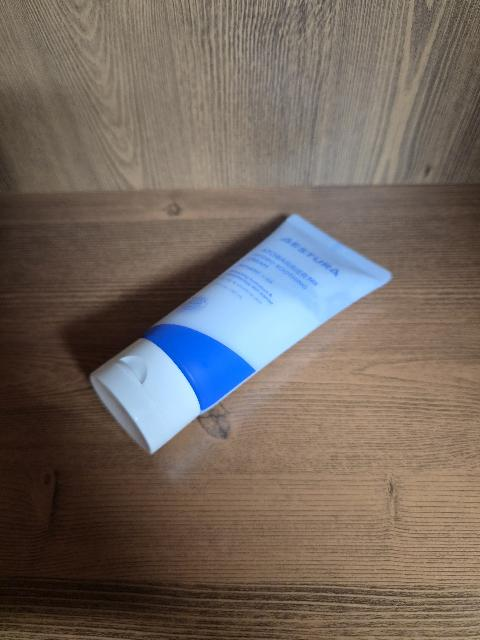handcream: (90, 214, 391, 454)
